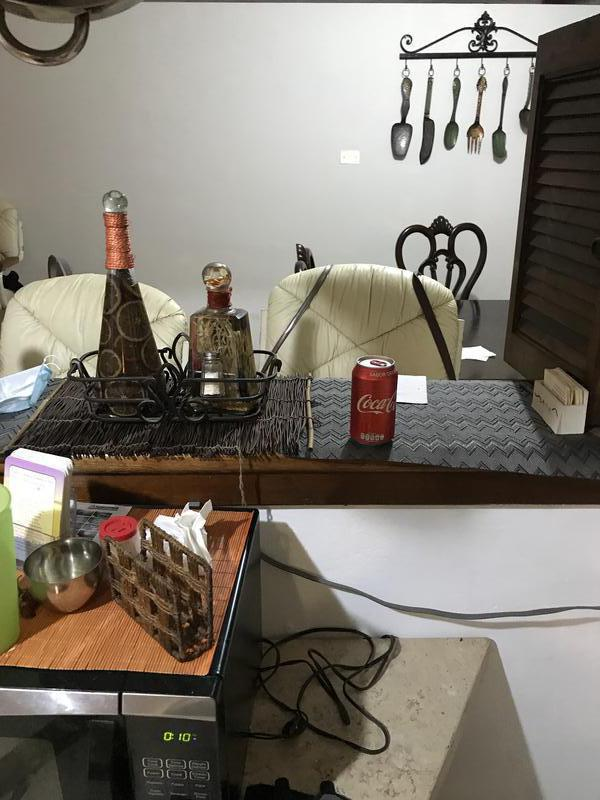coca_cola: (350, 359, 396, 448)
